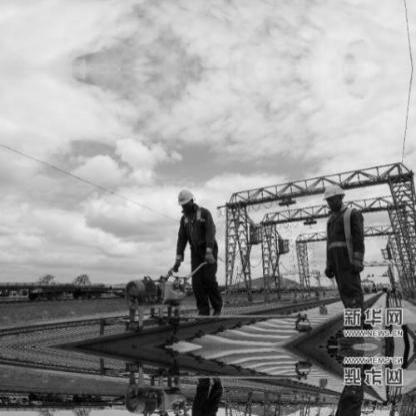helmet: (321, 179, 349, 211), (176, 188, 195, 212)
